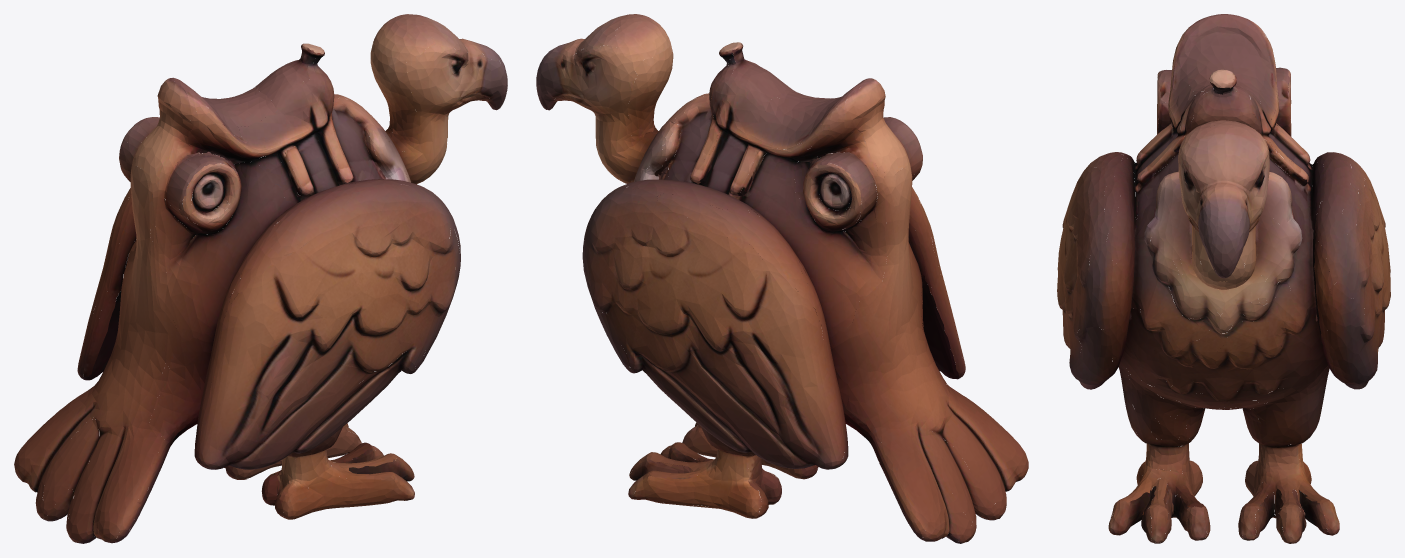
Rendered from buzzard_riderless.glb.
The picture shows the model from 3 angles, left to right: view 1: azimuth 30°, elevation 25°; view 2: azimuth 150°, elevation 25°; view 3: azimuth 270°, elevation 25°; orthographic projection. The views are drawn at different scales.
Visible parts, largest first — view 1: tmpyw0lmodb.ply; view 2: tmpyw0lmodb.ply; view 3: tmpyw0lmodb.ply.
Boxes of the visible parts, x1,y1,x2,y2 form: tmpyw0lmodb.ply: (14,14,507,543); tmpyw0lmodb.ply: (536,14,1028,543); tmpyw0lmodb.ply: (1057,14,1390,543).
Size of the model in its own units: 2 by 1.84 by 1.25.
Materials: 1 (1 with a texture image).
